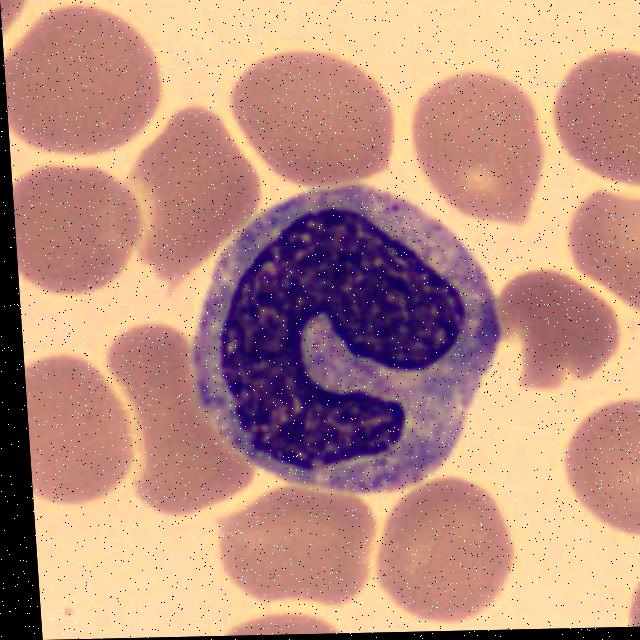monocyte: (156, 166, 529, 518)
rbc: (4, 0, 175, 159), (359, 475, 533, 629), (97, 320, 233, 516), (244, 36, 418, 189), (116, 104, 266, 274), (197, 485, 389, 615), (404, 66, 552, 227), (10, 149, 155, 291), (23, 345, 143, 506), (474, 269, 621, 397), (549, 381, 640, 535), (550, 45, 640, 180), (568, 192, 640, 322), (206, 594, 360, 636), (606, 543, 640, 627)
